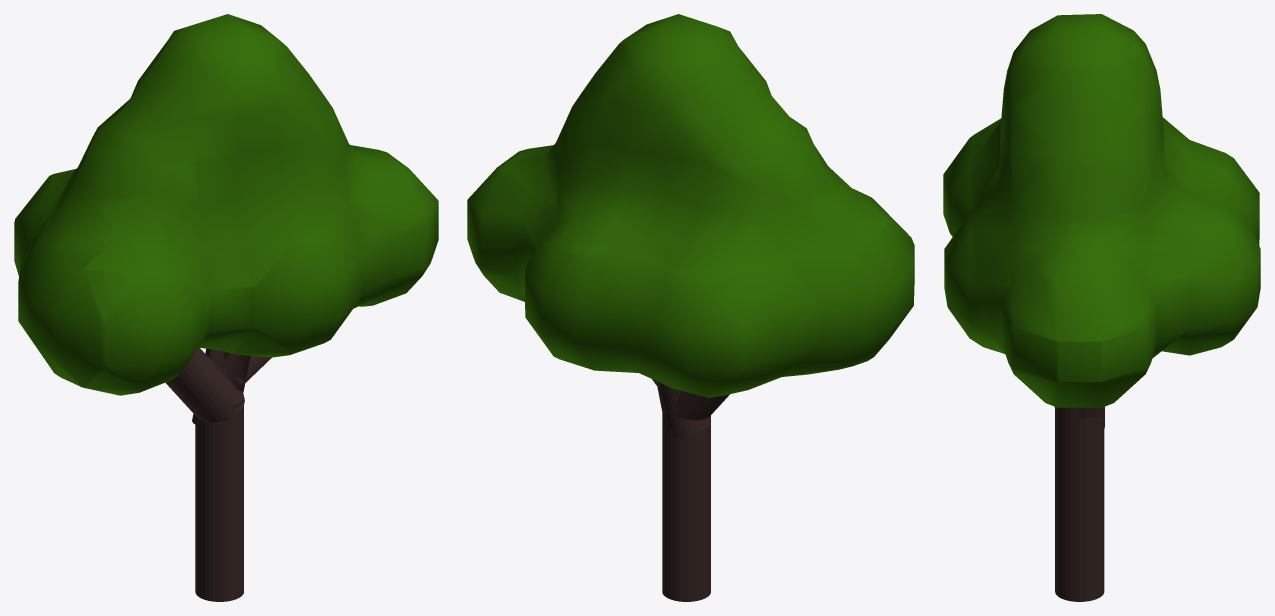
The model's file is Tree.fbx.
The picture shows the model from 3 angles, left to right: view 1: azimuth 30°, elevation 25°; view 2: azimuth 150°, elevation 25°; view 3: azimuth 270°, elevation 25°; orthographic projection.
Visible parts, largest first — view 1: Leaves, Trunk; view 2: Leaves, Trunk; view 3: Leaves, Trunk.
Part boxes in pixels (x1,y1,x2,y2): Leaves: [14, 14, 438, 395]; Trunk: [165, 347, 271, 601]; Leaves: [467, 14, 914, 397]; Trunk: [652, 379, 729, 601]; Leaves: [943, 14, 1260, 407]; Trunk: [1054, 406, 1104, 601].
Size of the model in its own units: 431 by 572 by 288.
